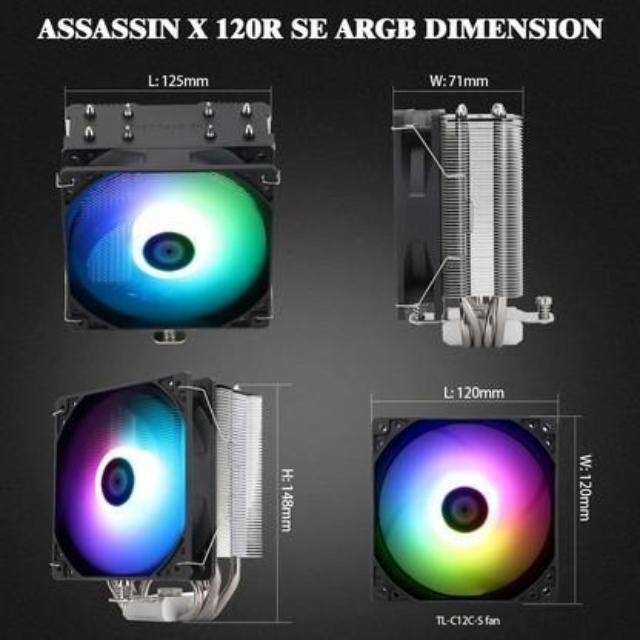CPU_Fan: (36, 370, 304, 628), (50, 74, 292, 348), (366, 82, 572, 360)
